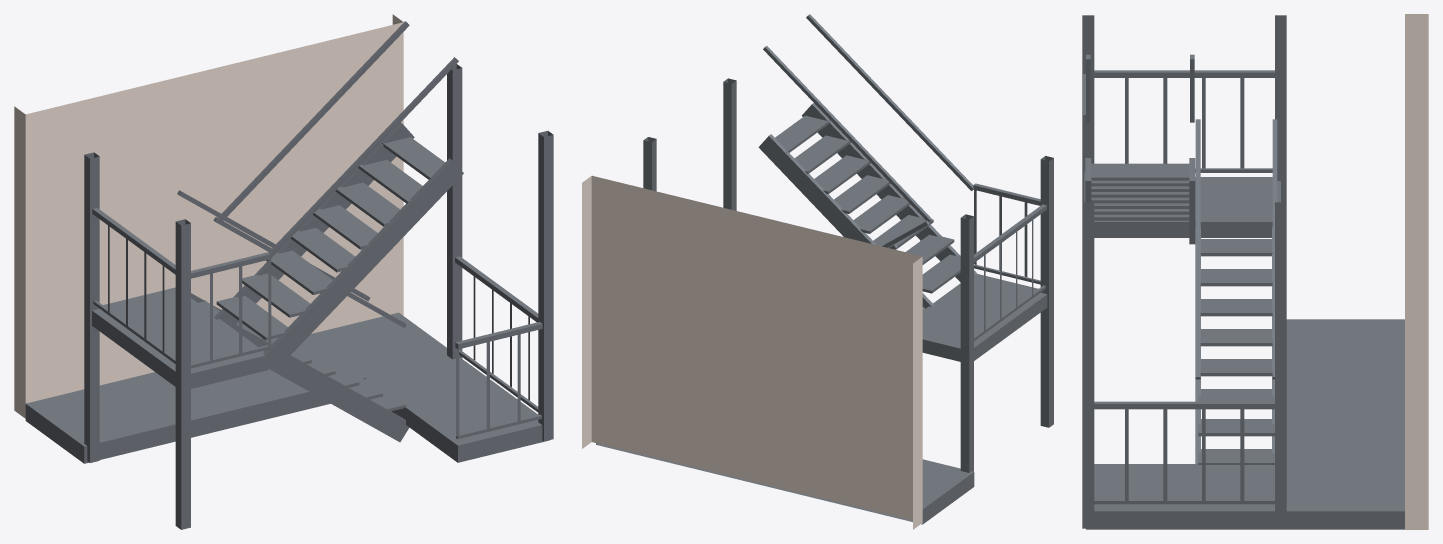
The model's file is mid-stair.fbx.
3 renders of one model, left to right at view 1: azimuth 30°, elevation 25°; view 2: azimuth 150°, elevation 25°; view 3: azimuth 270°, elevation 25°, orthographic. The views are drawn at different scales.
Visible parts, largest first — view 1: a2001/200/mid-stair; view 2: a2001/200/mid-stair; view 3: a2001/200/mid-stair.
Boxes of the visible parts, x1,y1,x2,y2 form: a2001/200/mid-stair: (14, 14, 553, 529); a2001/200/mid-stair: (582, 14, 1053, 529); a2001/200/mid-stair: (1082, 14, 1428, 529).
Size of the model in its own units: 3.9 by 4.15 by 2.93.
